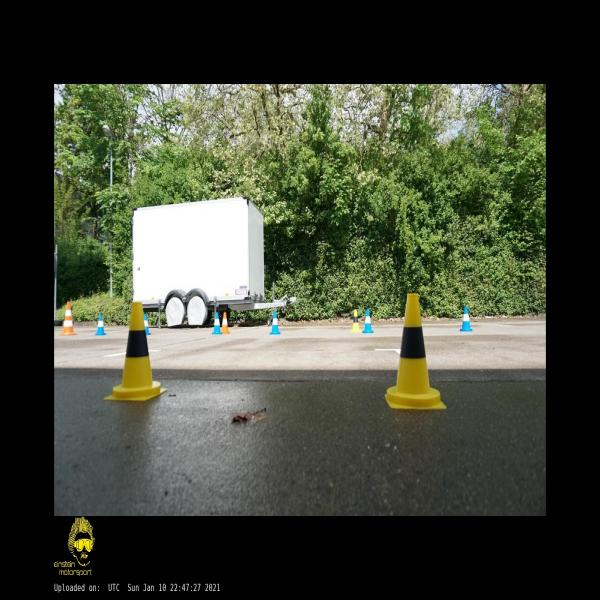blue_cone: (361, 308, 374, 334), (459, 307, 472, 331), (269, 312, 281, 334), (95, 315, 106, 335), (212, 313, 222, 334), (143, 313, 151, 335)
large_orange_cone: (60, 302, 77, 336)
orange_cone: (222, 312, 230, 334)
yellow_cone: (385, 294, 446, 410), (104, 301, 167, 402), (351, 310, 361, 332)
